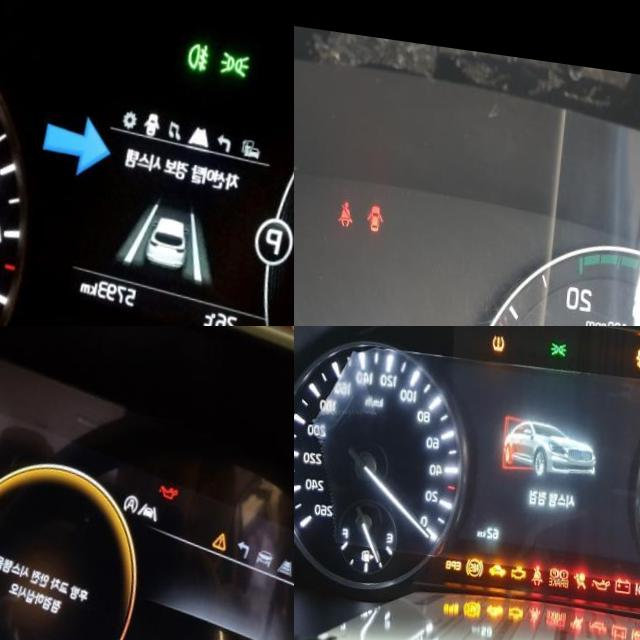Central Warning lamp: (217, 518, 237, 540)
FrontFogLight: (189, 27, 216, 62)
LaneCenteringOff: (143, 491, 167, 511)
SideLamp: (223, 34, 257, 67), (555, 330, 571, 347)
